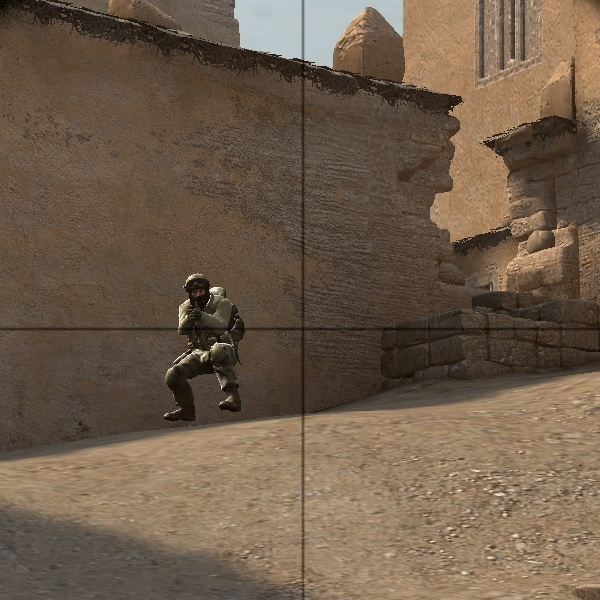ct_body: (156, 273, 244, 429)
ct_head: (182, 276, 214, 308)
